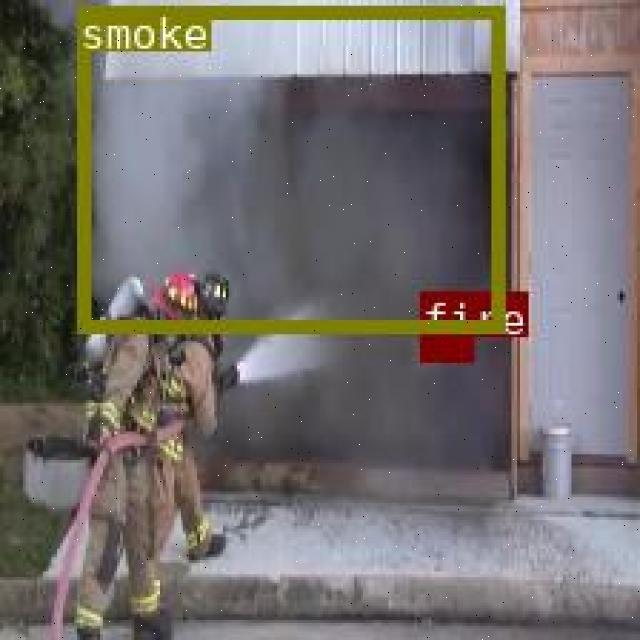fire: (419, 335, 469, 359)
smoke: (77, 4, 501, 331)
